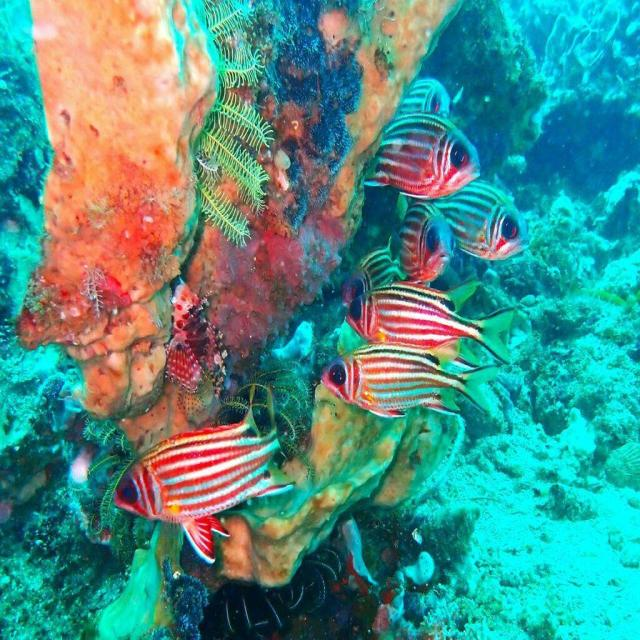Asker Baligi: (111, 383, 294, 566), (324, 340, 481, 431), (392, 199, 525, 295), (334, 284, 504, 350), (366, 113, 482, 204)
